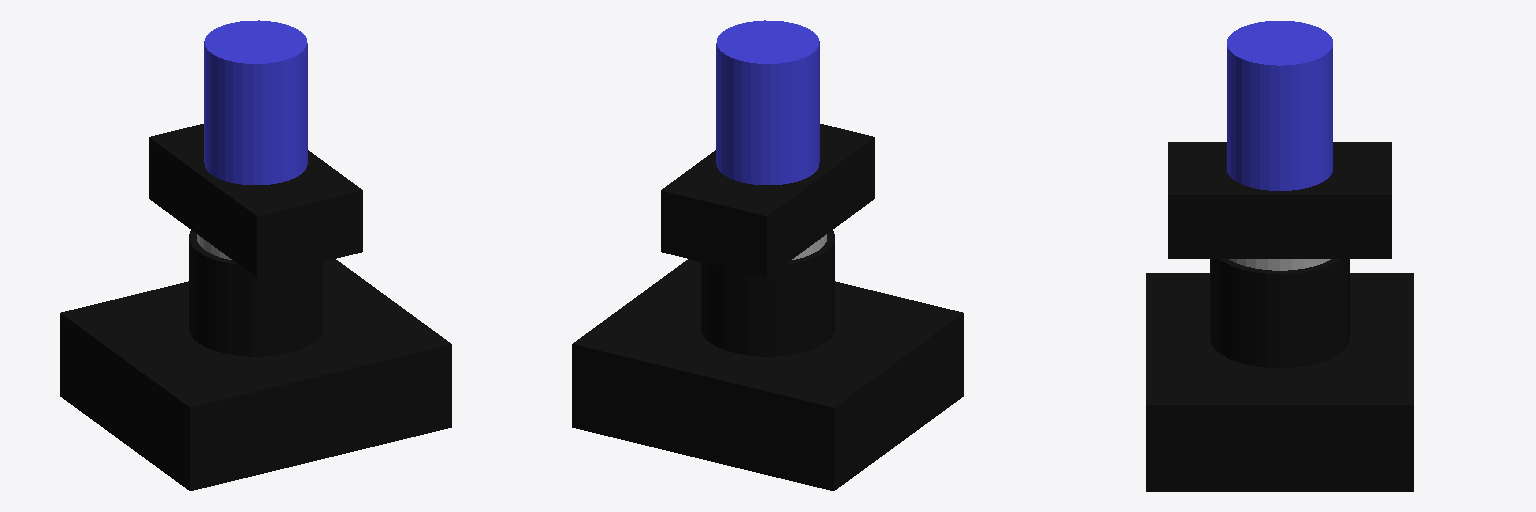
URDF robot description (evolved_robot):
<?xml version="1.0"?>
<robot name="evolved_robot">
  <material name="metal">
    <color rgba="0.7 0.7 0.7 1.0"/>
  </material>
  <material name="plastic">
    <color rgba="0.3 0.3 0.9 1.0"/>
  </material>
  <material name="rubber">
    <color rgba="0.1 0.1 0.1 1.0"/>
  </material>
  <material name="red">
    <color rgba="1.0 0.0 0.0 1.0"/>
  </material>
  <material name="wheel_material">
    <color rgba="0.2 0.2 0.2 1.0"/>
  </material>
  <link name="base_link">
    <visual>
      <geometry><box size="0.30697323004127625 0.2637592270063851 0.09384700153046605"/></geometry>
      <material name="rubber"/>
    </visual>
    <collision>
      <geometry><box size="0.30697323004127625 0.2637592270063851 0.09384700153046605"/></geometry>
    </collision>
    <inertial>
      <mass value="5.0"/>
      <inertia ixx="0.06531349127272092" ixy="0" ixz="0" 
               iyy="0.08586651971519467" iyz="0" 
               izz="0.1365012448274834"/>
    </inertial>
  </link>
  <link name="link1">
    <visual>
      <geometry><cylinder radius="0.06842107728391425" length="0.20393180304916814"/></geometry>
      <material name="rubber"/>
    </visual>
    <collision>
      <geometry><cylinder radius="0.06842107728391425" length="0.20393180304916814"/></geometry>
    </collision>
    <inertial>
      <mass value="0.5"/>
      <inertia ixx="0.004636042645413233" ixy="0" ixz="0" 
               iyy="0.004636042645413233" iyz="0" 
               izz="0.0023407219083456834"/>
    </inertial>
  </link>
  <joint name="joint1" type="fixed">
    <parent link="base_link"/>
    <child link="link1"/>
    <origin xyz="0 0 0.04692350076523302" rpy="0 0 0"/>
    <axis xyz="-0.6735736737103664 -0.09402911533223257 0.7331146101082414"/>
    <dynamics damping="0.8082031792583191" friction="0.1"/>
  </joint>
  <link name="link2">
    <visual>
      <geometry>
        <cylinder radius="0.05403839621776832" length="0.04609916563540056"/>
      </geometry>
      <material name="wheel_material"/>
    </visual>
    <collision>
      <geometry>
        <cylinder radius="0.05403839621776832" length="0.04609916563540056"/>
      </geometry>
    </collision>
    <inertial>
      <mass value="1.0"/>
      <inertia ixx="0.0009071314891371374" ixy="0" ixz="0" 
               iyy="0.0009071314891371374" iyz="0" 
               izz="0.0014600741328942588"/>
    </inertial>
  </link>
  <joint name="joint2" type="fixed">
    <parent link="base_link"/>
    <child link="link2"/>
    <origin xyz="0 0 0" rpy="1.5708 0 0"/>
    <axis xyz="0 0 1"/>
    <dynamics damping="0.22477592063042073" friction="0.1"/>
  </joint>
  <link name="link3">
    <visual>
      <geometry><cylinder radius="0.037788071872525975" length="0.060382984106586275"/></geometry>
      <material name="plastic"/>
    </visual>
    <collision>
      <geometry><cylinder radius="0.037788071872525975" length="0.060382984106586275"/></geometry>
    </collision>
    <inertial>
      <mass value="0.5"/>
      <inertia ixx="0.0006608266580954847" ixy="0" ixz="0" 
               iyy="0.0006608266580954847" iyz="0" 
               izz="0.0007139691879215944"/>
    </inertial>
  </link>
  <joint name="joint3" type="fixed">
    <parent link="base_link"/>
    <child link="link3"/>
    <origin xyz="0 0 0.09692350076523303" rpy="0 0 0"/>
    <axis xyz="0.9862664212222523 -0.1590795872698979 -0.04440981066712096"/>
    <dynamics damping="0.8045766474630718" friction="0.1"/>
  </joint>
  <link name="link4">
    <visual>
      <geometry><cylinder radius="0.060422541704089054" length="0.1671417502097104"/></geometry>
      <material name="metal"/>
    </visual>
    <collision>
      <geometry><cylinder radius="0.060422541704089054" length="0.1671417502097104"/></geometry>
    </collision>
    <inertial>
      <mass value="0.5"/>
      <inertia ixx="0.0032407512750926974" ixy="0" ixz="0" 
               iyy="0.0032407512750926974" iyz="0" 
               izz="0.0018254417729911905"/>
    </inertial>
  </link>
  <joint name="joint4" type="revolute">
    <parent link="base_link"/>
    <child link="link4"/>
    <origin xyz="0 0 0.14692350076523303" rpy="0 0 0"/>
    <axis xyz="0.7463441904934524 0.0 -0.6655601770814368"/>
    <dynamics damping="0.7867909126212331" friction="0.1"/>
    <limit lower="-1.5937080365004679" upper="0.17322498463732566" effort="100" velocity="100"/>
  </joint>
  <link name="link5">
    <visual>
      <geometry><box size="0.12469964234483949 0.22030096366797508 0.06911936531876706"/></geometry>
      <material name="rubber"/>
    </visual>
    <collision>
      <geometry><box size="0.12469964234483949 0.22030096366797508 0.06911936531876706"/></geometry>
    </collision>
    <inertial>
      <mass value="0.5"/>
      <inertia ixx="0.004442500104592305" ixy="0" ixz="0" 
               iyy="0.0016939572885833387" iyz="0" 
               izz="0.005340209616164114"/>
    </inertial>
  </link>
  <joint name="joint5" type="fixed">
    <parent link="base_link"/>
    <child link="link5"/>
    <origin xyz="0 0 0.19692350076523304" rpy="0 0 0"/>
    <axis xyz="-0.718022354511932 0.023239785324699756 -0.6956319506744951"/>
    <dynamics damping="0.3192390020596607" friction="0.1"/>
  </joint>
  <link name="link6">
    <visual>
      <geometry><cylinder radius="0.0524754808427005" length="0.24130320195547167"/></geometry>
      <material name="plastic"/>
    </visual>
    <collision>
      <geometry><cylinder radius="0.0524754808427005" length="0.24130320195547167"/></geometry>
    </collision>
    <inertial>
      <mass value="0.5"/>
      <inertia ixx="0.005540688628581752" ixy="0" ixz="0" 
               iyy="0.005540688628581752" iyz="0" 
               izz="0.0013768380448363135"/>
    </inertial>
  </link>
  <joint name="joint6" type="fixed">
    <parent link="base_link"/>
    <child link="link6"/>
    <origin xyz="0 0 0.24692350076523303" rpy="0 0 0"/>
    <axis xyz="0.8151655474202315 -0.17990712641518425 -0.5505801995750531"/>
    <dynamics damping="0.16524735726711476" friction="0.1"/>
  </joint>
  <link name="link7">
    <visual>
      <geometry><sphere radius="0.050938227597508295"/></geometry>
      <material name="plastic"/>
    </visual>
    <collision>
      <geometry><sphere radius="0.050938227597508295"/></geometry>
    </collision>
    <inertial>
      <mass value="0.5"/>
      <inertia ixx="0.0010378812123102222" ixy="0" ixz="0" 
               iyy="0.0010378812123102222" iyz="0" 
               izz="0.0010378812123102222"/>
    </inertial>
  </link>
  <joint name="joint7" type="fixed">
    <parent link="base_link"/>
    <child link="link7"/>
    <origin xyz="0 0 0.296923500765233" rpy="0 0 0"/>
    <axis xyz="0.6048889741152664 0.03885012942721245 0.7953615507662345"/>
    <dynamics damping="0.1" friction="0.1"/>
  </joint>
</robot>

--- Facts derived from the render (not from the file) ---
3 views of the same robot in one strip: view 1: azimuth 30°, elevation 25°; view 2: azimuth 150°, elevation 25°; view 3: azimuth 270°, elevation 25° (orthographic).
Model evolved_robot with 8 links and 7 joints (1 revolute, 6 fixed), rooted at base_link, posed all joints at 0.
Links seen in each view (by area): view 1: base_link, link5, link6, link1; view 2: base_link, link5, link6, link1; view 3: base_link, link5, link6, link1, link4.
Link boxes in pixels (left/top/right/bottom): base_link: left=60, top=259, right=451, bottom=490; link5: left=149, top=124, right=362, bottom=277; link6: left=204, top=20, right=307, bottom=184; link1: left=189, top=230, right=322, bottom=356; base_link: left=572, top=259, right=963, bottom=490; link5: left=661, top=124, right=874, bottom=277; link6: left=716, top=20, right=819, bottom=184; link1: left=701, top=230, right=834, bottom=356; base_link: left=1146, top=273, right=1413, bottom=491; link5: left=1168, top=142, right=1391, bottom=258; link6: left=1227, top=21, right=1332, bottom=190; link1: left=1210, top=259, right=1349, bottom=367; link4: left=1229, top=259, right=1330, bottom=270.
Bounding box of the posed robot: 0.307 × 0.2638 × 0.4226 m (x, y, z).
Geometry: primitives only (box / cylinder / sphere), no mesh files.